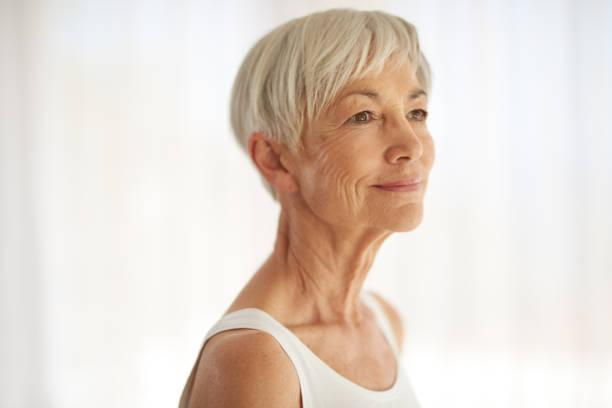Dry-Skin: (314, 133, 362, 213)
